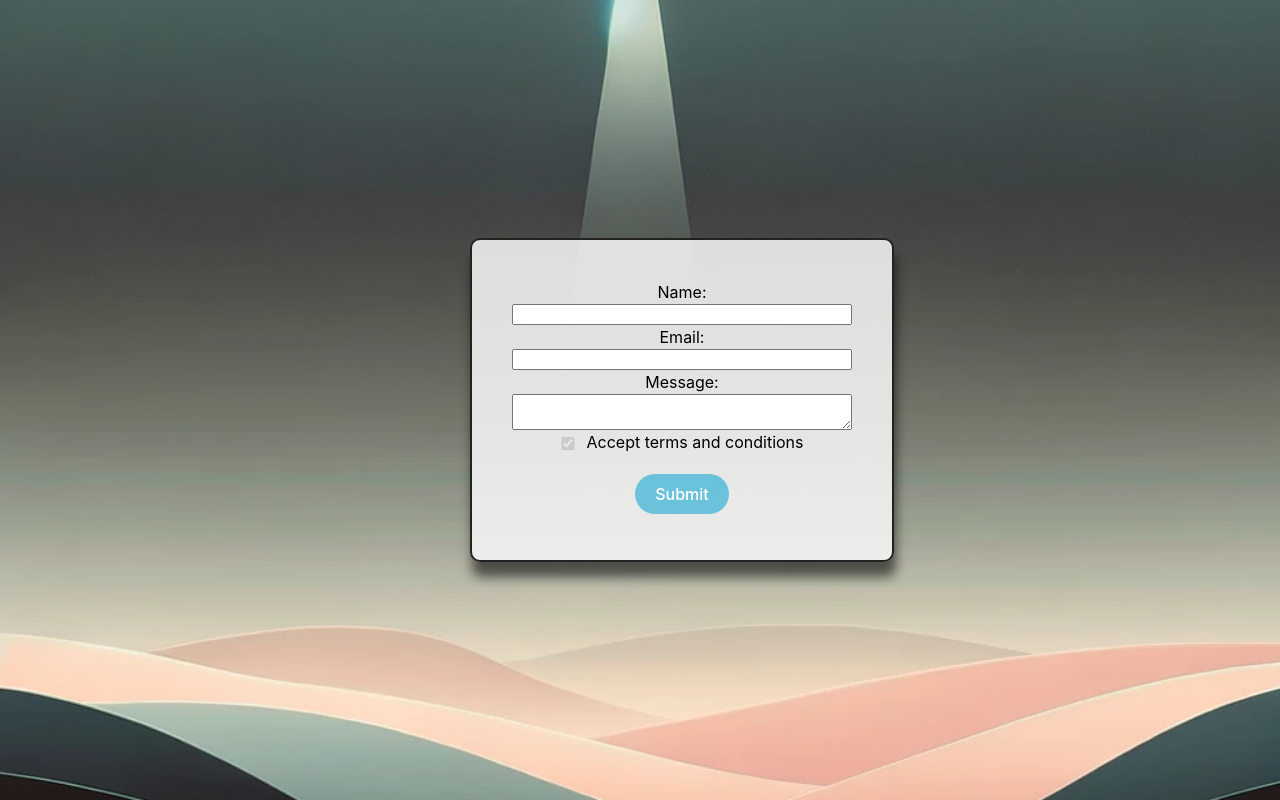
Scenario: ContactForm.vue › validates form fields correctly and displays error messages
// Input values which will trigger validation errors
Type "O" into the field with test id "nameField" at (682, 314), box [512,304,852,325]
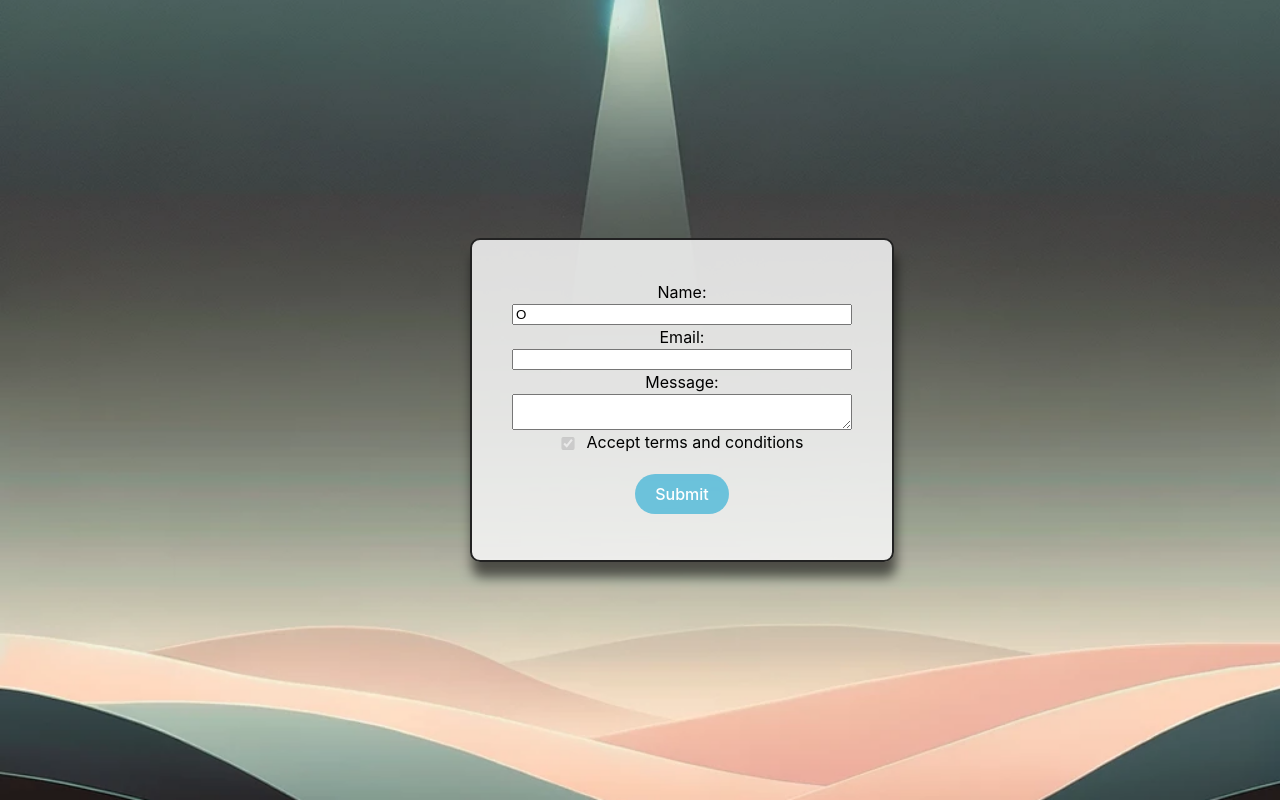
Type "tideman" into the field with test id "emailField" at (682, 360), box [512,349,852,370]
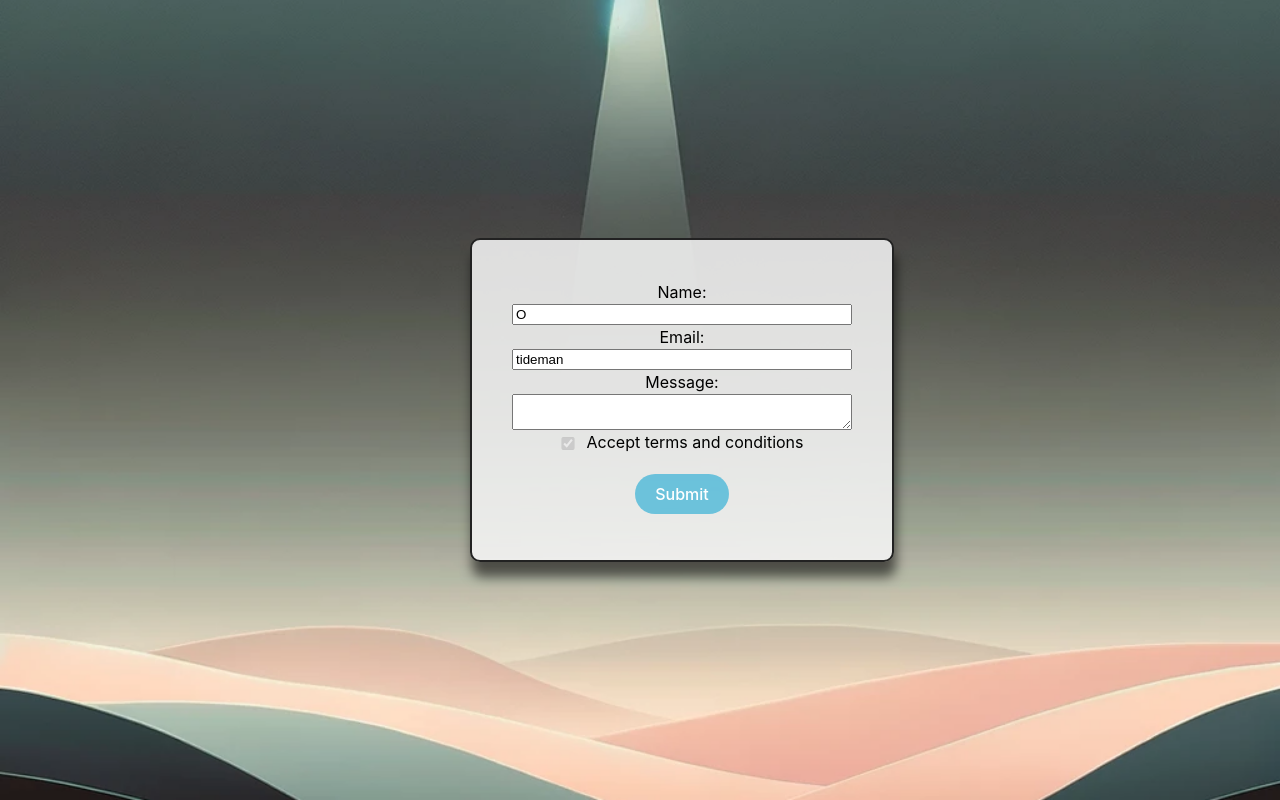
Type "less10" into the text box with test id "messageField" at (682, 412), box [512,394,852,430]
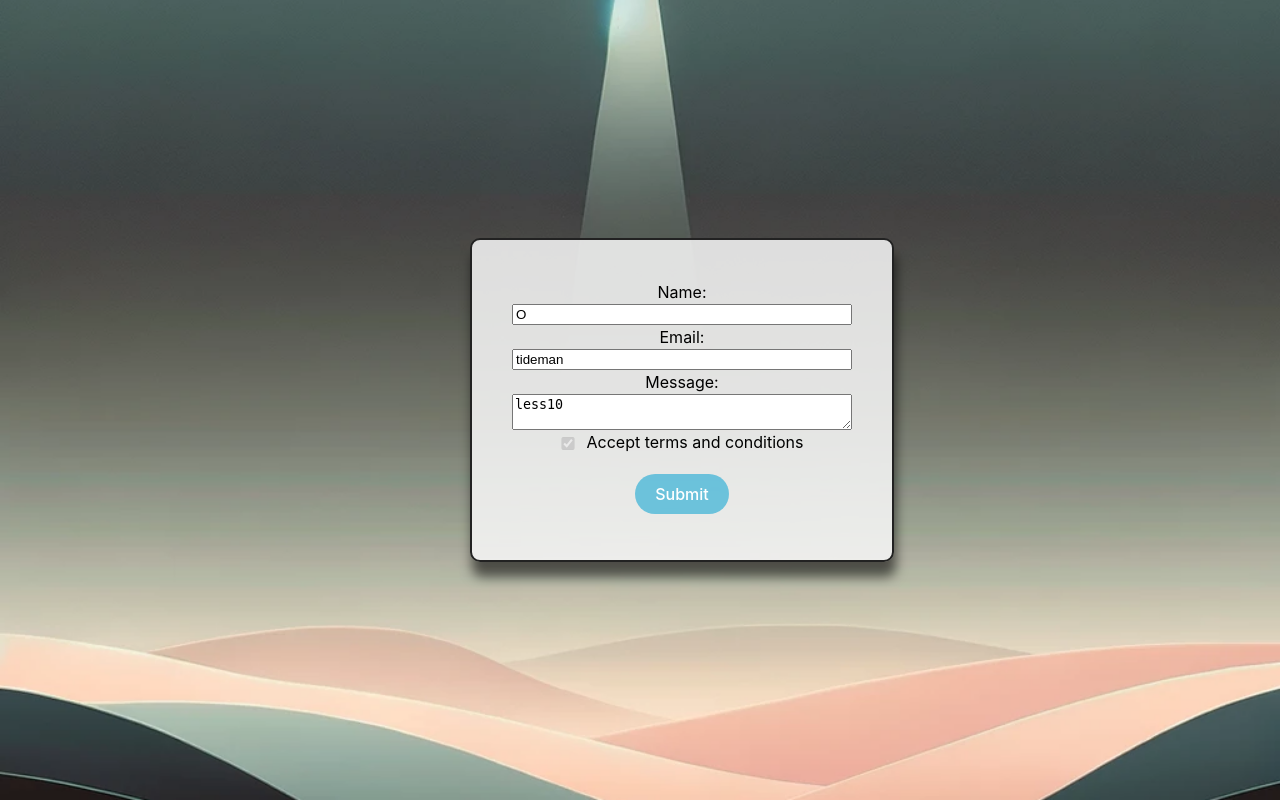
// Trigger form submission
Submit the form, box [470,238,894,562]
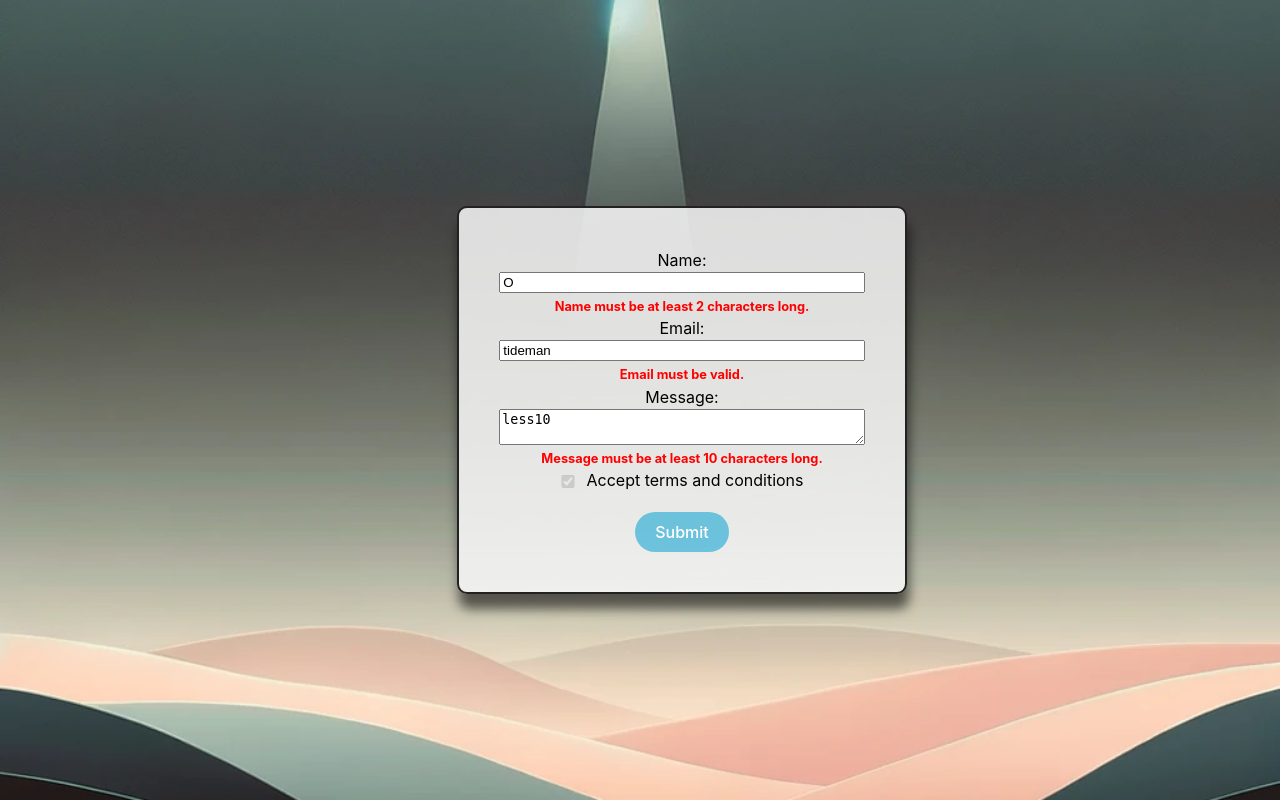
Now the form shows "Name must be at least 2 characters long.", box [555,299,809,314]
Now the form shows "Email must be valid.", box [620,367,744,382]
Now the form shows "Message must be at least 10 characters long.", box [541,451,823,466]
